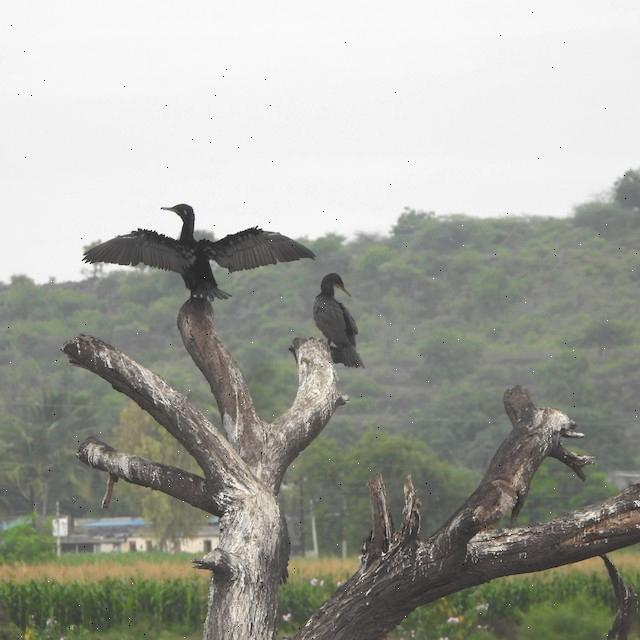cormorant: (73, 200, 319, 302), (312, 270, 368, 372)
